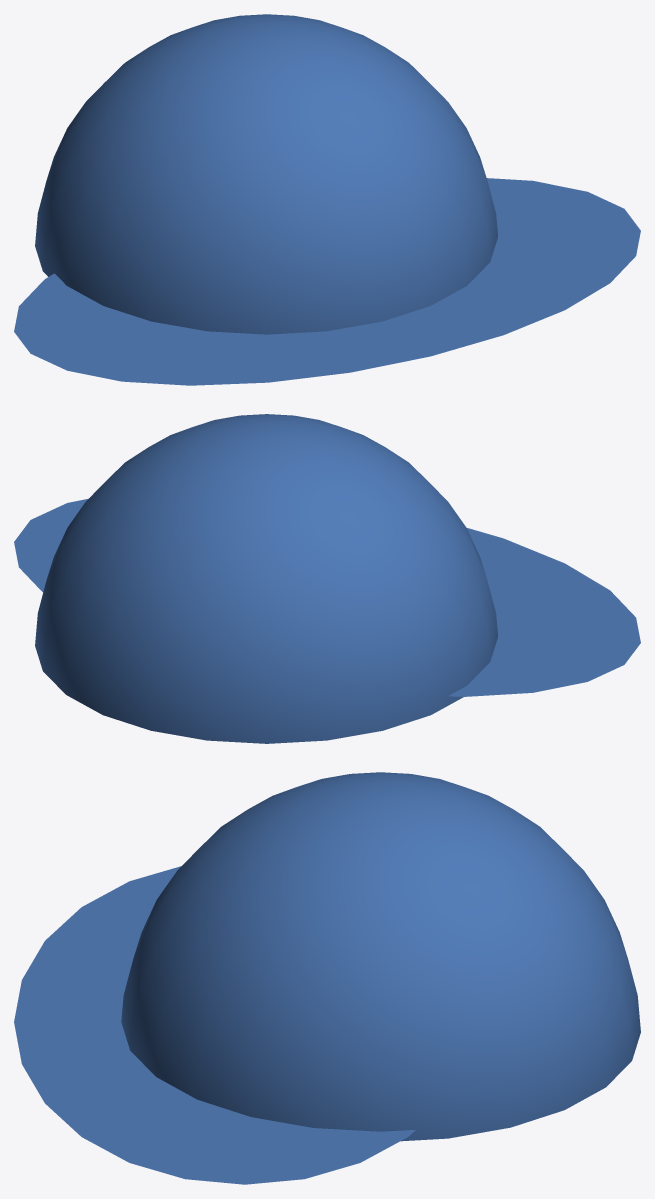
The model's file is hat-baseball.glb.
3 views of the same model, one above another, from view 1: azimuth 30°, elevation 25°; view 2: azimuth 150°, elevation 25°; view 3: azimuth 270°, elevation 25° (orthographic). The views are drawn at different scales.
Parts seen in each view (by area): view 1: crown, visor; view 2: crown, visor; view 3: crown, visor.
Boxes of the visible parts, box(x1,y1,x2,y2) form: crown: box(35, 14, 497, 334); visor: box(14, 178, 640, 385); crown: box(35, 414, 497, 743); visor: box(14, 498, 640, 696); crown: box(121, 772, 640, 1141); visor: box(14, 866, 415, 1184).
Size of the model in its own units: 0.34 by 0.115 by 0.277.
